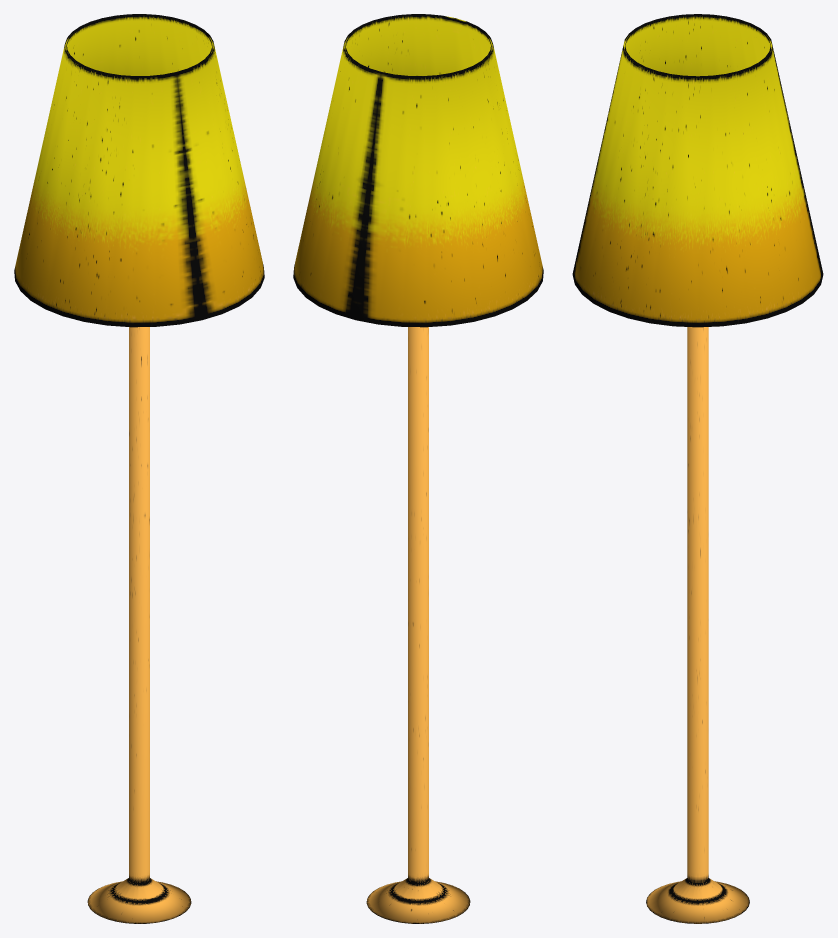
Rendered from Lamp.obj.
3 renders of one model, left to right at view 1: azimuth 30°, elevation 25°; view 2: azimuth 150°, elevation 25°; view 3: azimuth 270°, elevation 25°, orthographic.
Visible parts, largest first — view 1: Lamp; view 2: Lamp; view 3: Lamp.
Part boxes in pixels (x1=…): Lamp: x1=14, y1=14, x2=264, y2=923; Lamp: x1=293, y1=14, x2=543, y2=923; Lamp: x1=572, y1=14, x2=823, y2=923.
Size of the model in its own units: 2 by 7.53 by 2.
